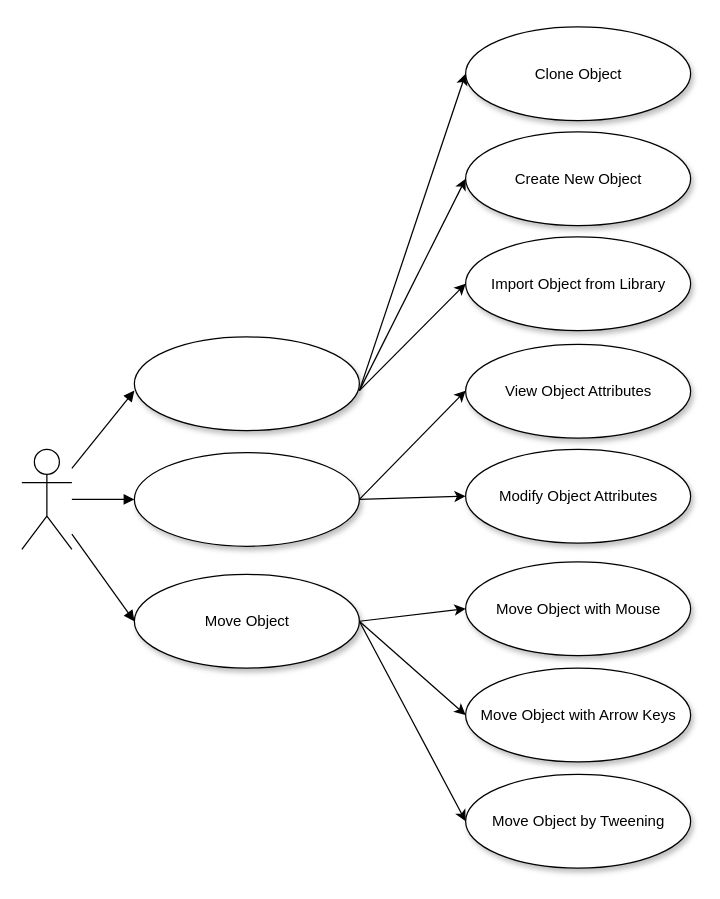
The diagram is 720 pixels wide and 899 high, and some of its shapes have lost their labels. Here are the shapes that lost their labels. From the top down, the centre of each, then its label:
(247,385): Add Object
(46,498): User
(247,500): Edit Object
